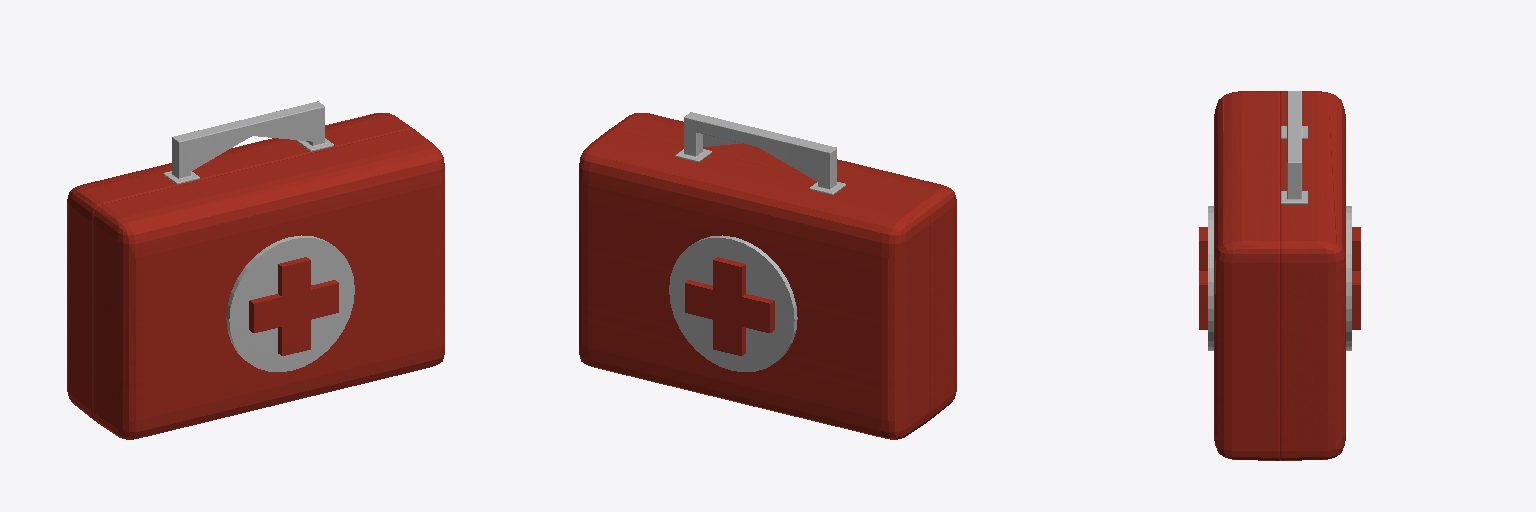
The picture shows the model from 3 angles: view 1: azimuth 30°, elevation 25°; view 2: azimuth 150°, elevation 25°; view 3: azimuth 270°, elevation 25°; orthographic projection.
Visible parts, largest first — view 1: handler_Plane.002; view 2: handler_Plane.002; view 3: handler_Plane.002.
Part boxes in pixels (x1,y1,x2,y2): handler_Plane.002: (67,101,444,439); handler_Plane.002: (579,112,956,439); handler_Plane.002: (1199,91,1360,460).
Size of the model in its own units: 0.8352 by 0.6297 by 0.3589.
Materials: 4 (2 with a texture image).